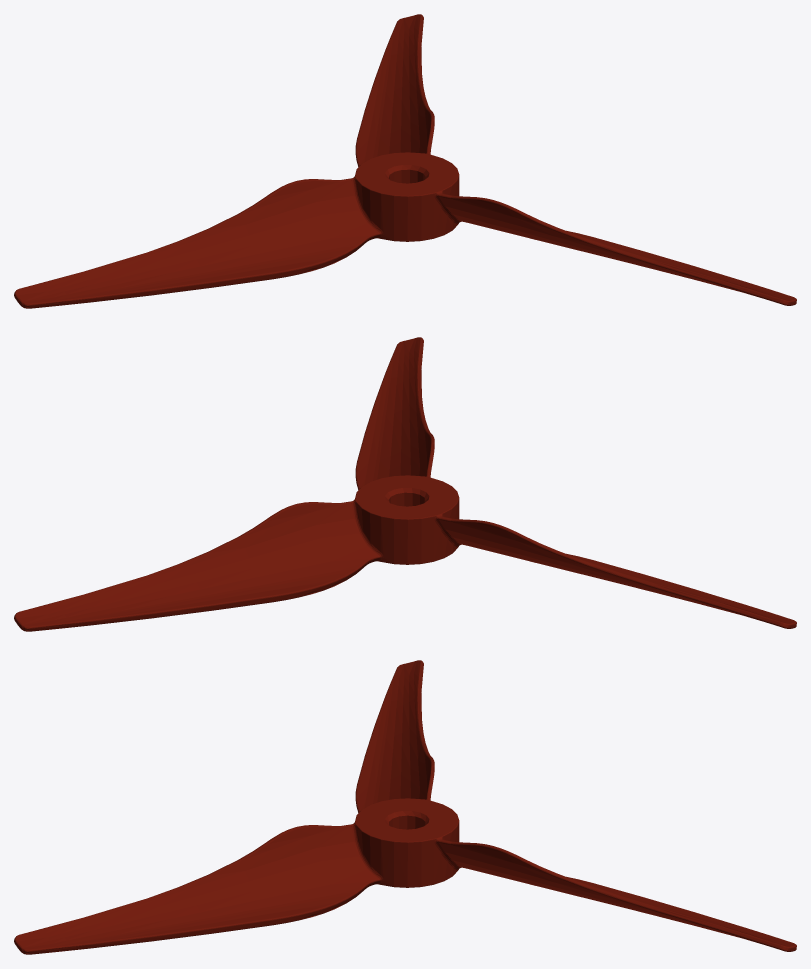
The model's file is propeller.dae.
The picture shows the model from 3 angles, top to bottom: view 1: azimuth 30°, elevation 25°; view 2: azimuth 150°, elevation 25°; view 3: azimuth 270°, elevation 25°; orthographic projection.
Parts seen in each view (by area): view 1: mesh0; view 2: mesh0; view 3: mesh0.
Boxes of the visible parts, left/top/right/bottom form: mesh0: left=14, top=14, right=796, bottom=308; mesh0: left=14, top=337, right=796, bottom=631; mesh0: left=14, top=660, right=796, bottom=954.
Size of the model in its own units: 0.0916 by 0.105 by 0.00854.
